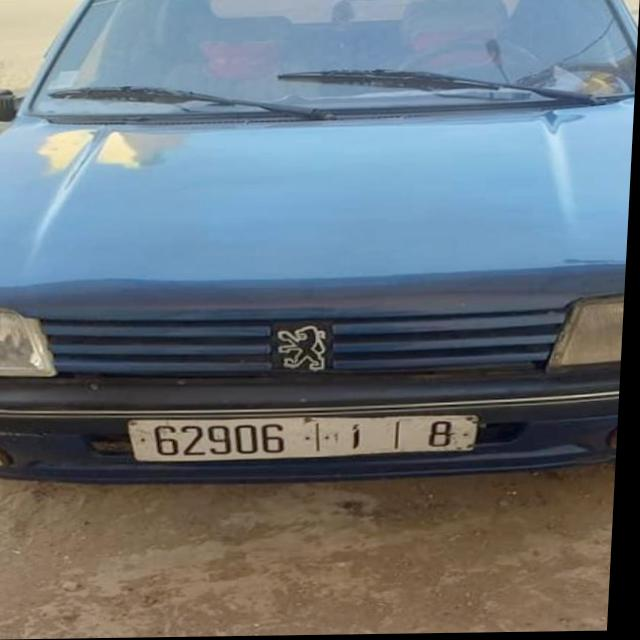License-Plate: (134, 417, 483, 463)
